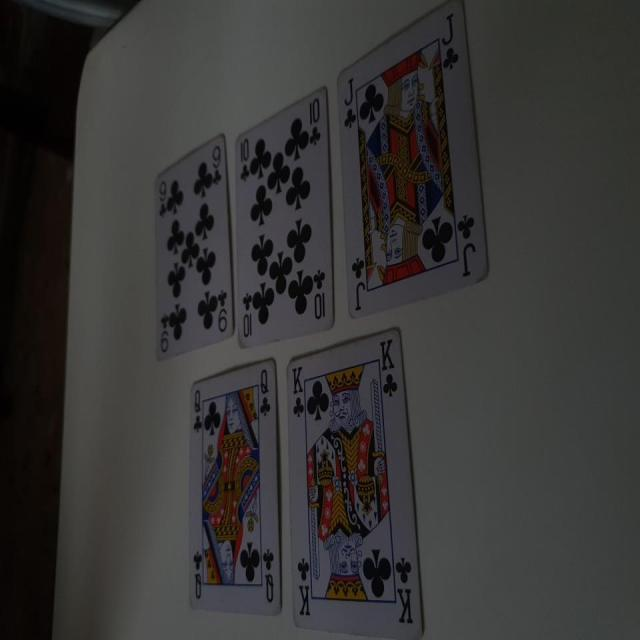10 Trefoils: (234, 82, 338, 349)
9 Trefoils: (153, 133, 237, 362)
J Trefoils: (336, 1, 494, 321)
K Trefoils: (284, 326, 429, 640)
Q Trefoils: (185, 357, 288, 618)
